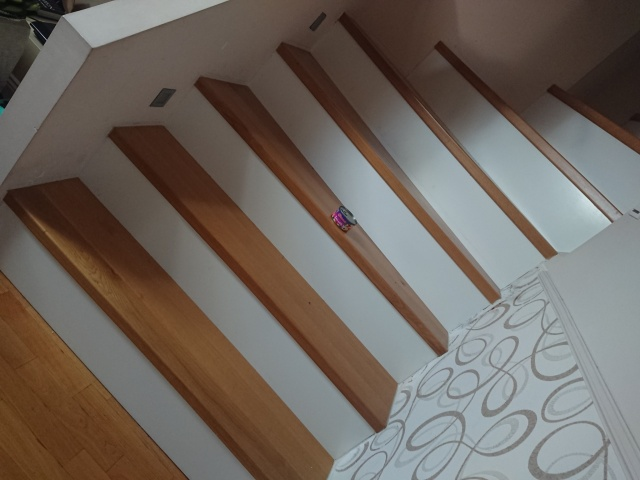Giana Tuna Salad Mexico 185g: (329, 203, 360, 235)
